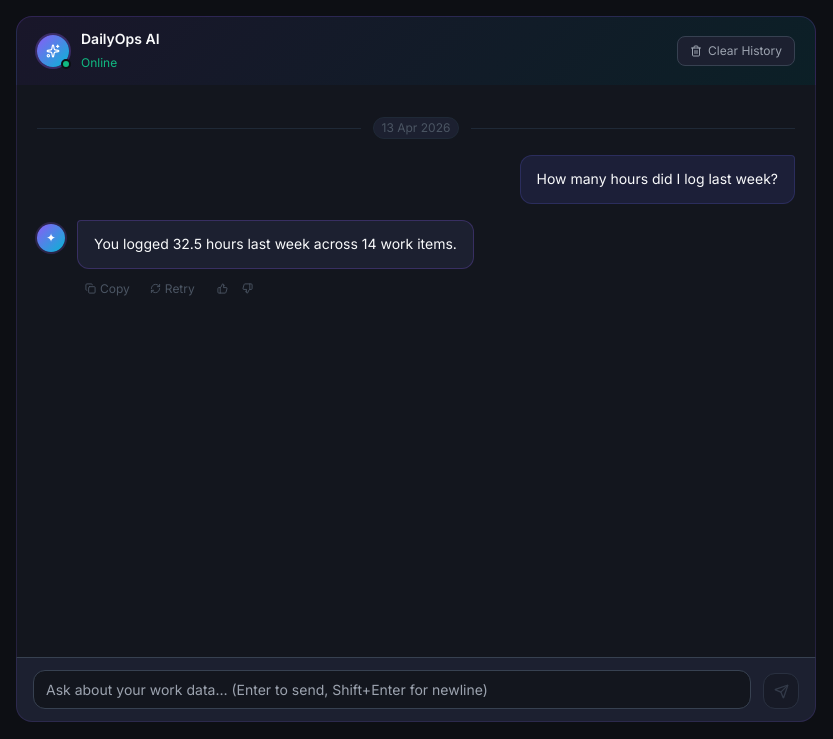
Scenario: ChatPage — typing indicator › typing indicator appears while waiting for AI response
The width and height of the screenshot is (833, 739).
Expected: the text "How many hours did I log last week?" is shown, [536, 168, 778, 191]
Replace the text in the text box labelled "Ask about your work" with "Will this show typing?". click: (392, 690)
box: [33, 670, 751, 709]
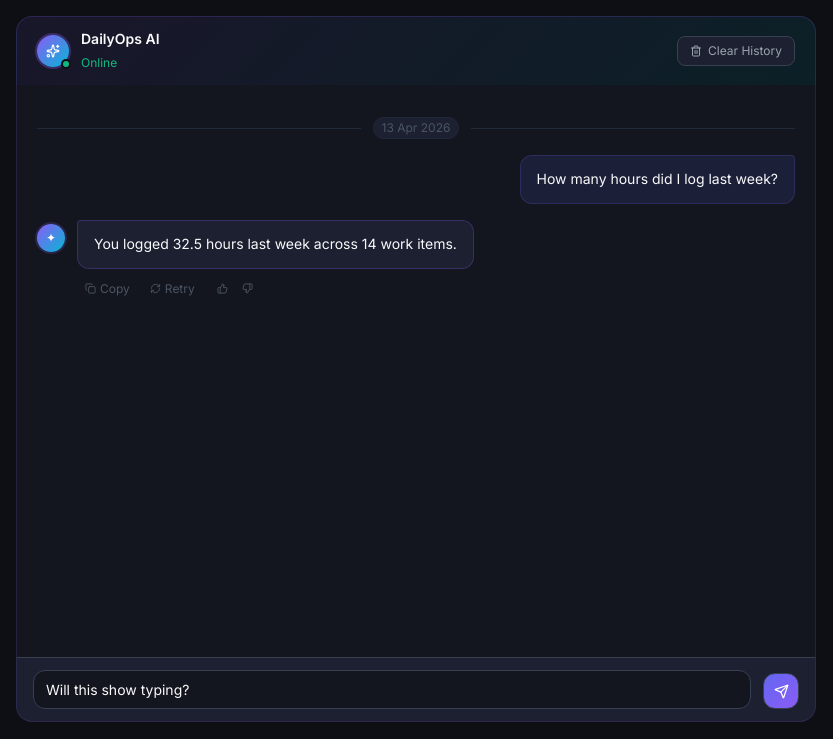
Click the button named "send". click: (781, 691)
box: [763, 673, 799, 709]
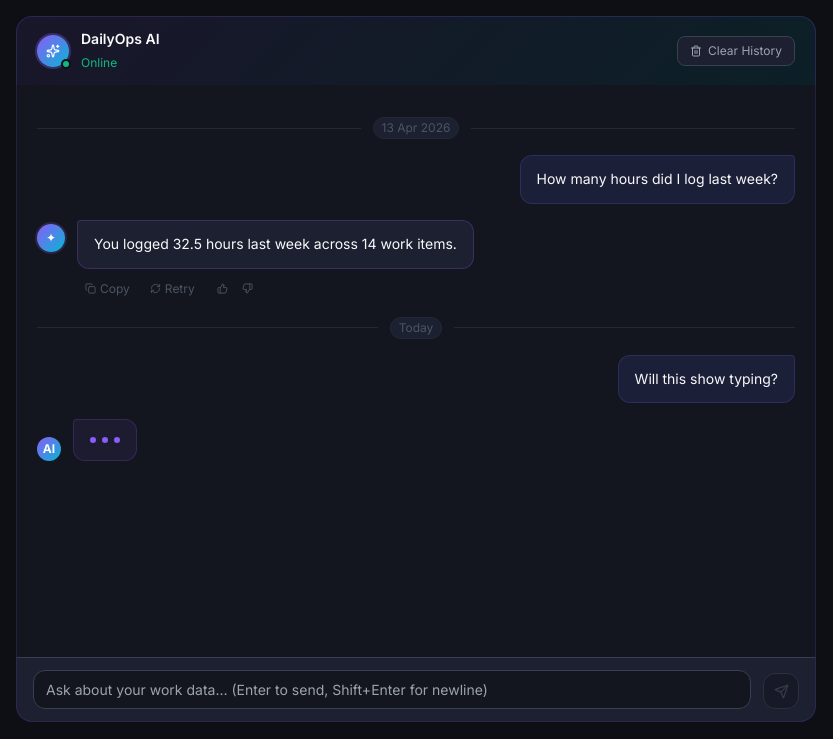
Expected: the element named "is typing" is shown, [37, 419, 137, 461]
